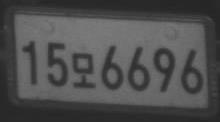1: (20, 40, 43, 85)
5: (44, 41, 69, 87)
6: (99, 46, 125, 90), (127, 45, 151, 92), (180, 49, 205, 94)
9: (152, 46, 176, 92)
모: (71, 52, 97, 89)
